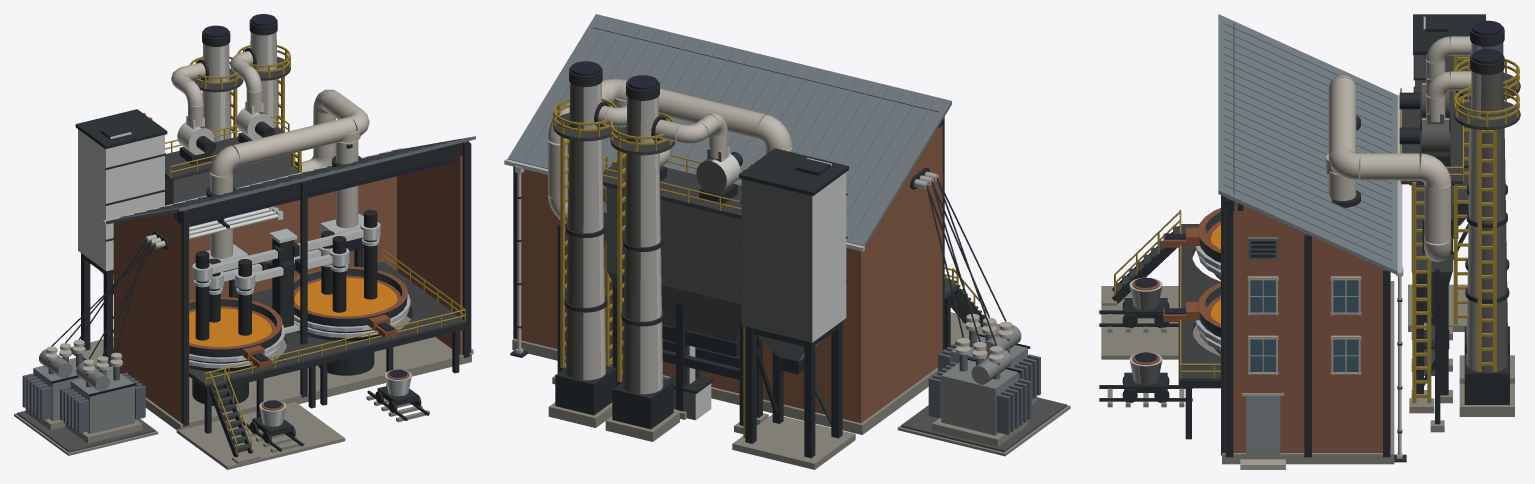
File: eaf_lvl3.glb
3 renders of one model, left to right at view 1: azimuth 30°, elevation 25°; view 2: azimuth 150°, elevation 25°; view 3: azimuth 270°, elevation 25°, orthographic. The views are drawn at different scales.
Visible parts, largest first — view 1: eaf_v2; view 2: eaf_v2; view 3: eaf_v2, eaf_v2_Glass.
Boxes of the visible parts, x1,y1,x2,y2 form: eaf_v2: [14, 14, 475, 469]; eaf_v2: [504, 14, 1070, 469]; eaf_v2: [1099, 14, 1520, 469]; eaf_v2_Glass: [1250, 280, 1358, 371].
Bounding box in the file's own units: 1 × 0.6723 × 0.733.
